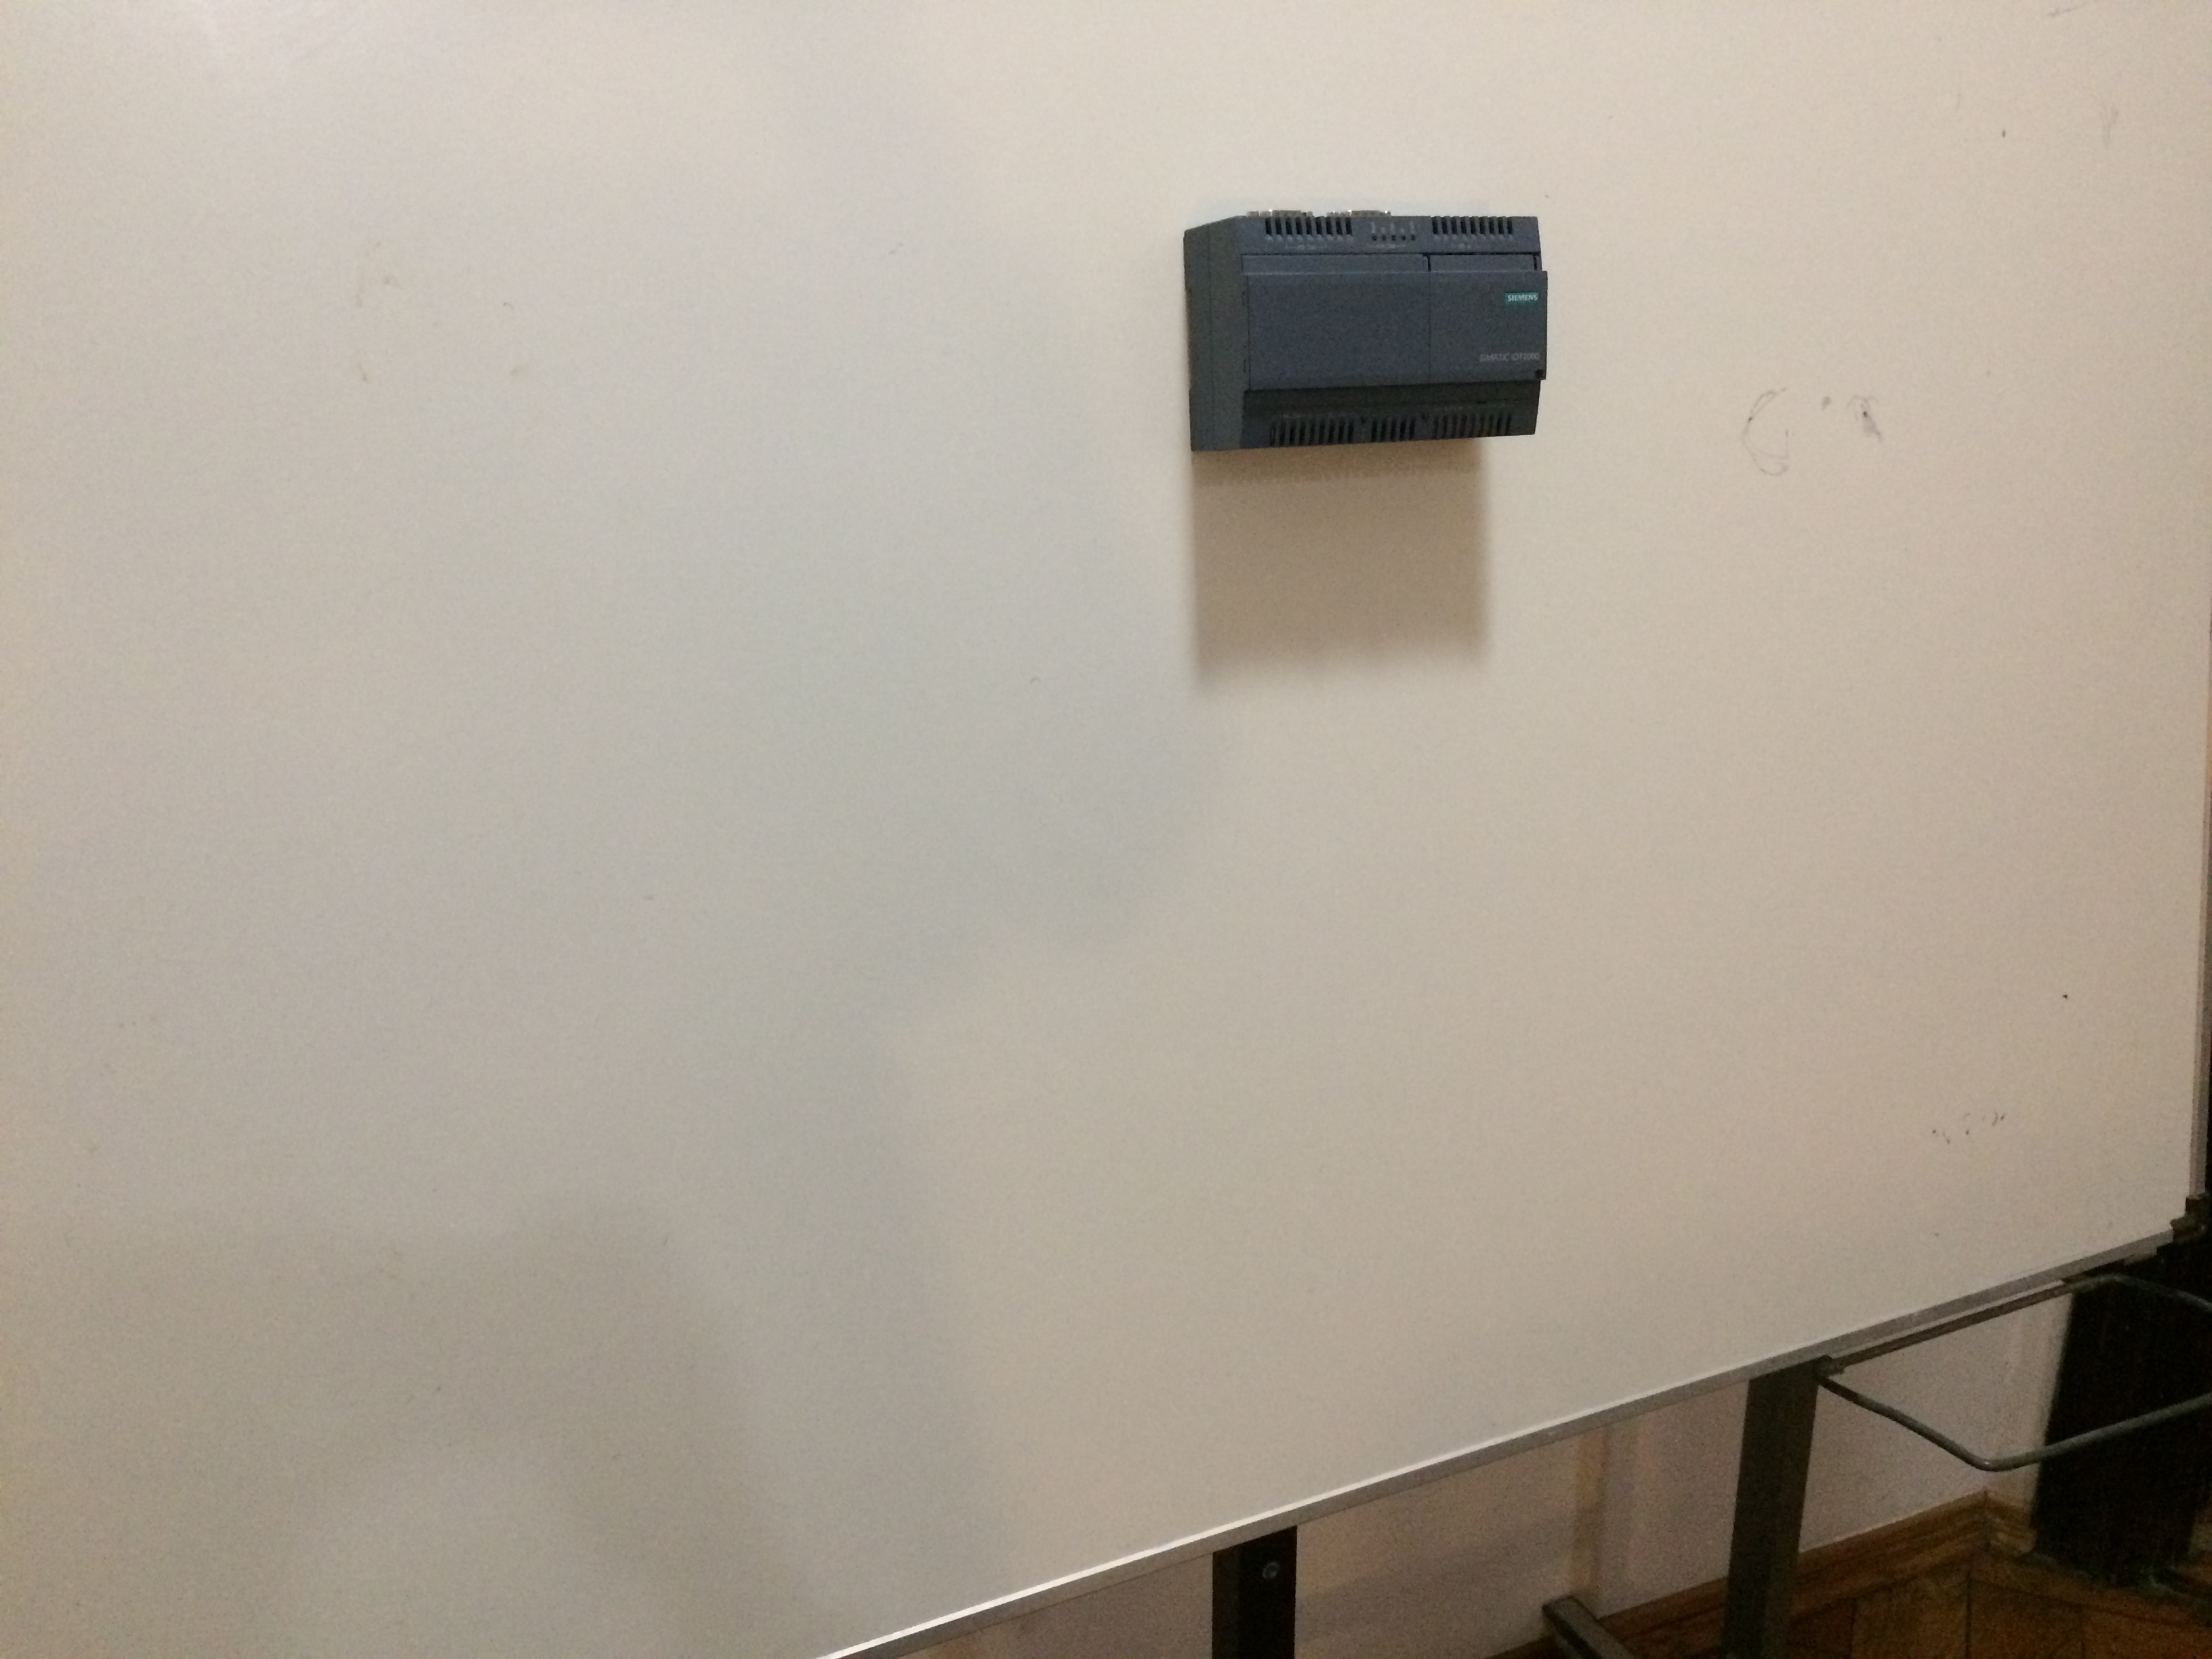iot2000: (1179, 206, 1552, 457)
